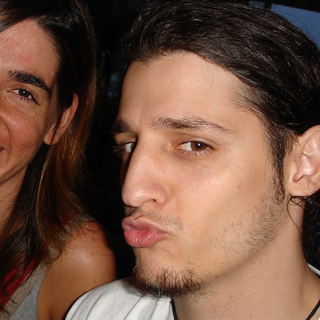eye: (169, 133, 219, 160), (7, 80, 46, 107)
